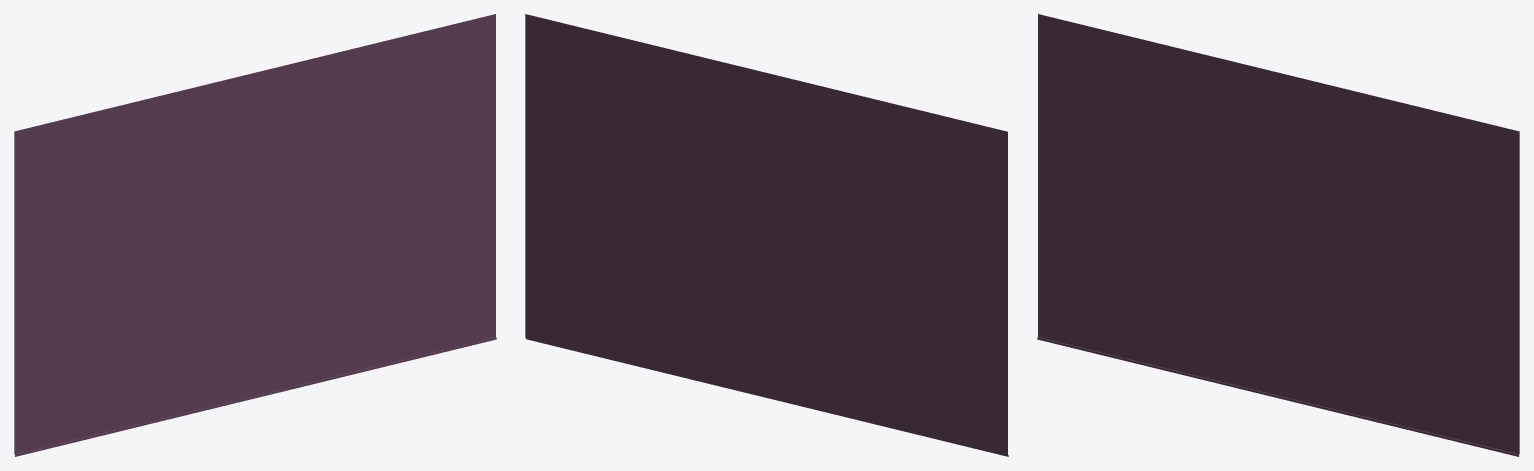
The model's file is Tile12_fix.fbx.
3 renders of one model, left to right at view 1: azimuth 30°, elevation 25°; view 2: azimuth 150°, elevation 25°; view 3: azimuth 330°, elevation 25°, orthographic.
Visible parts, largest first — view 1: Tile12; view 2: Tile12; view 3: Tile12.
Part boxes in pixels (box(x1,y1,x2,y2)): Tile12: box(14, 14, 496, 456); Tile12: box(525, 14, 1008, 456); Tile12: box(1037, 14, 1519, 456).
Size of the model in its own units: 775 by 500 by 1.99.
